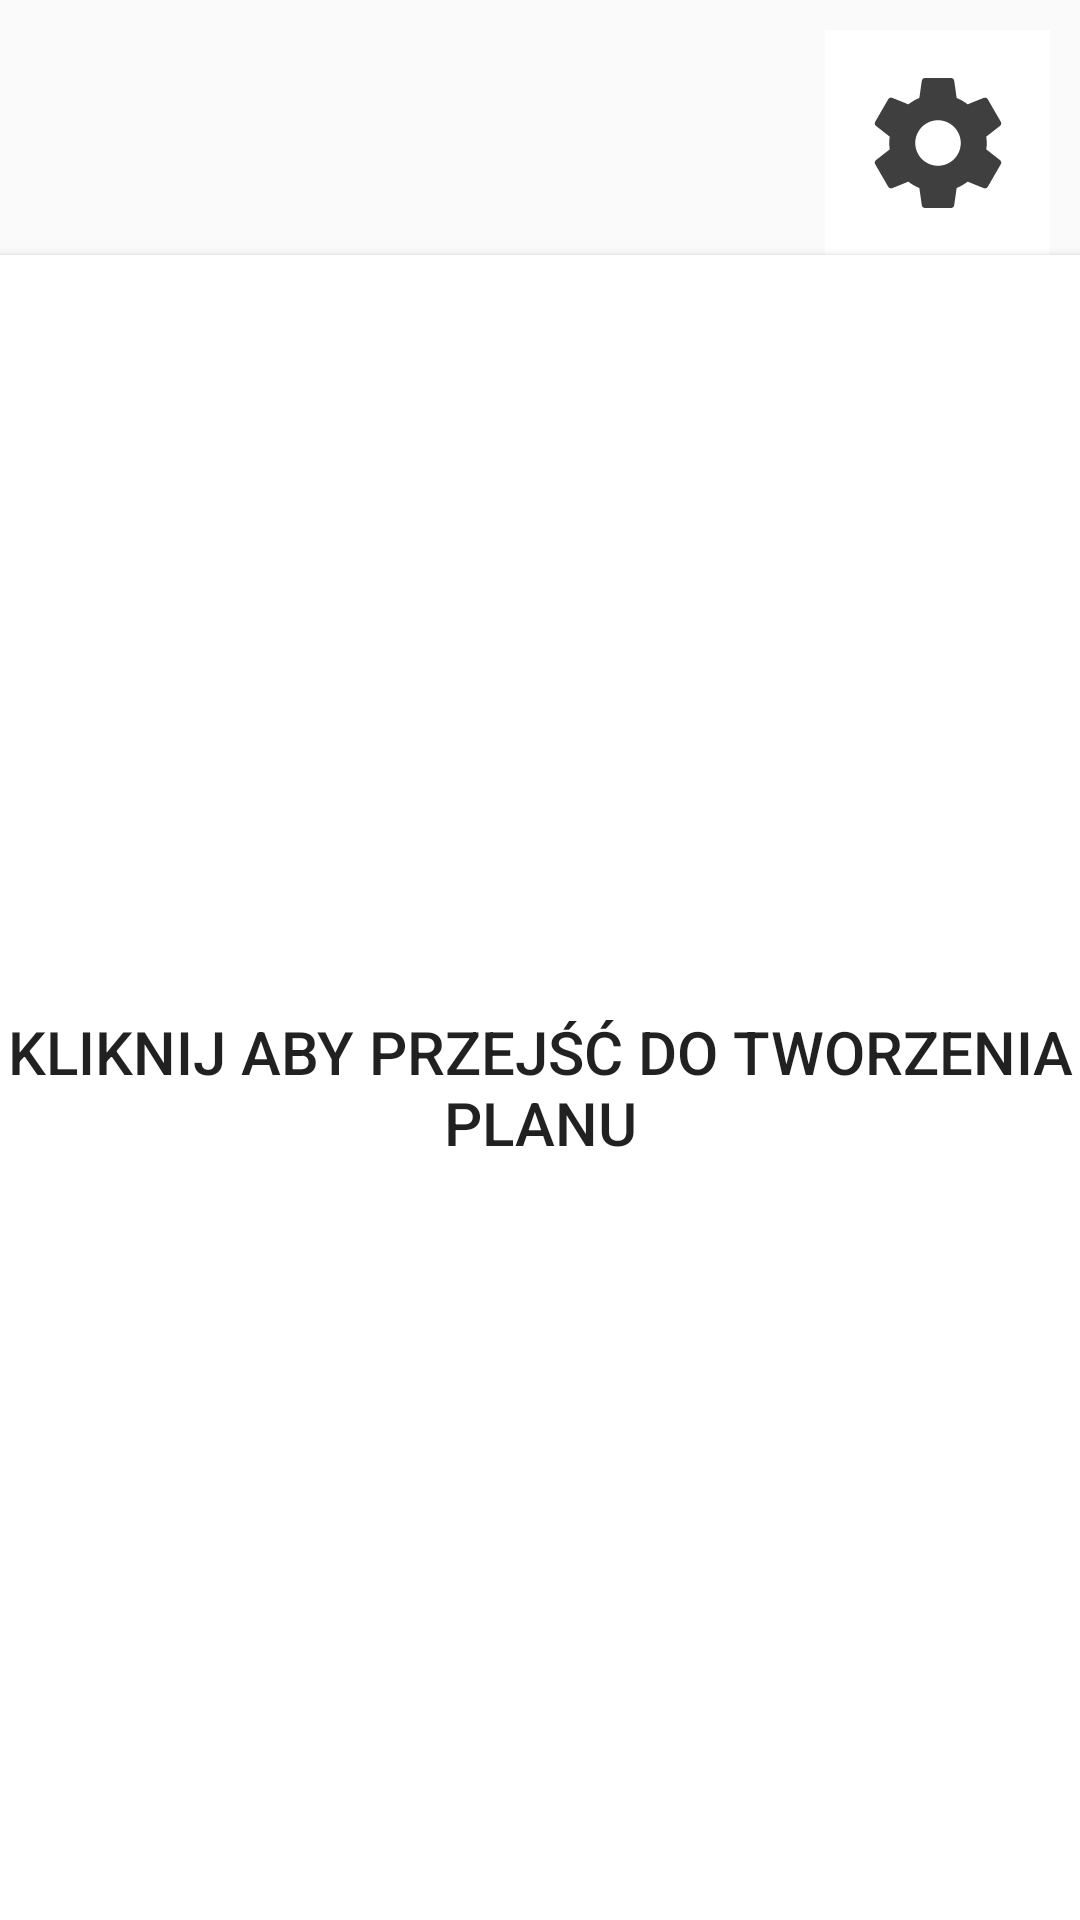

Screen size 1080 × 1920. Icon name, then its center in pixels as [x,y]:
settings: [938,143]
